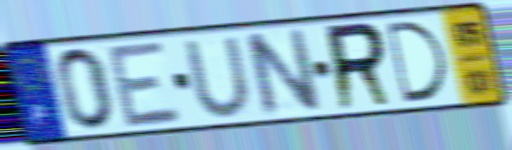0: (53, 45, 119, 133)
D: (382, 18, 452, 106)
E: (103, 37, 186, 131)
N: (240, 25, 325, 121)
R: (322, 18, 397, 115)
U: (180, 33, 257, 120)
